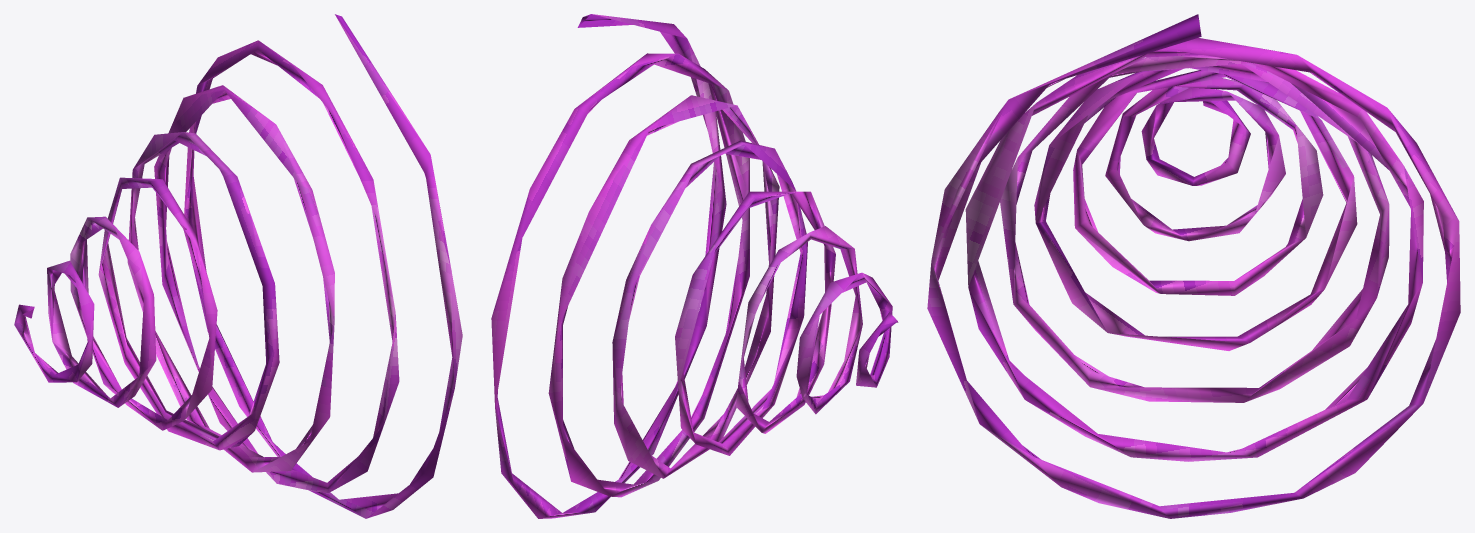
The model's file is confuse.glb.
3 renders of one model, left to right at view 1: azimuth 30°, elevation 25°; view 2: azimuth 150°, elevation 25°; view 3: azimuth 270°, elevation 25°, orthographic. The views are drawn at different scales.
Visible parts, largest first — view 1: Spiral.002; view 2: Spiral.002; view 3: Spiral.002.
Boxes of the visible parts, x1=… form: Spiral.002: x1=14, y1=14, x2=462, y2=518; Spiral.002: x1=491, y1=14, x2=898, y2=518; Spiral.002: x1=927, y1=14, x2=1460, y2=518.
Bounding box in the file's own units: 0.6542 × 0.9335 × 0.8856.
Materials: 1 (1 with a texture image).
